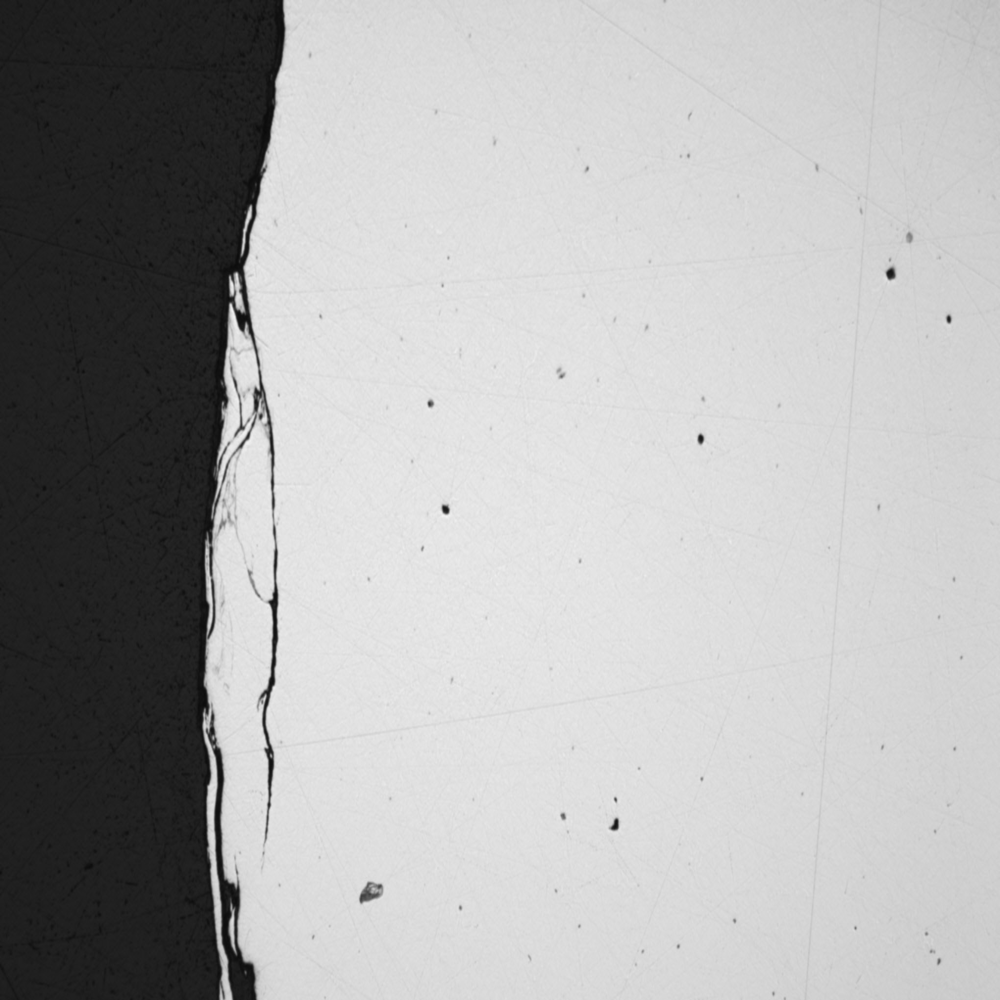crack: (195, 207, 301, 938)
